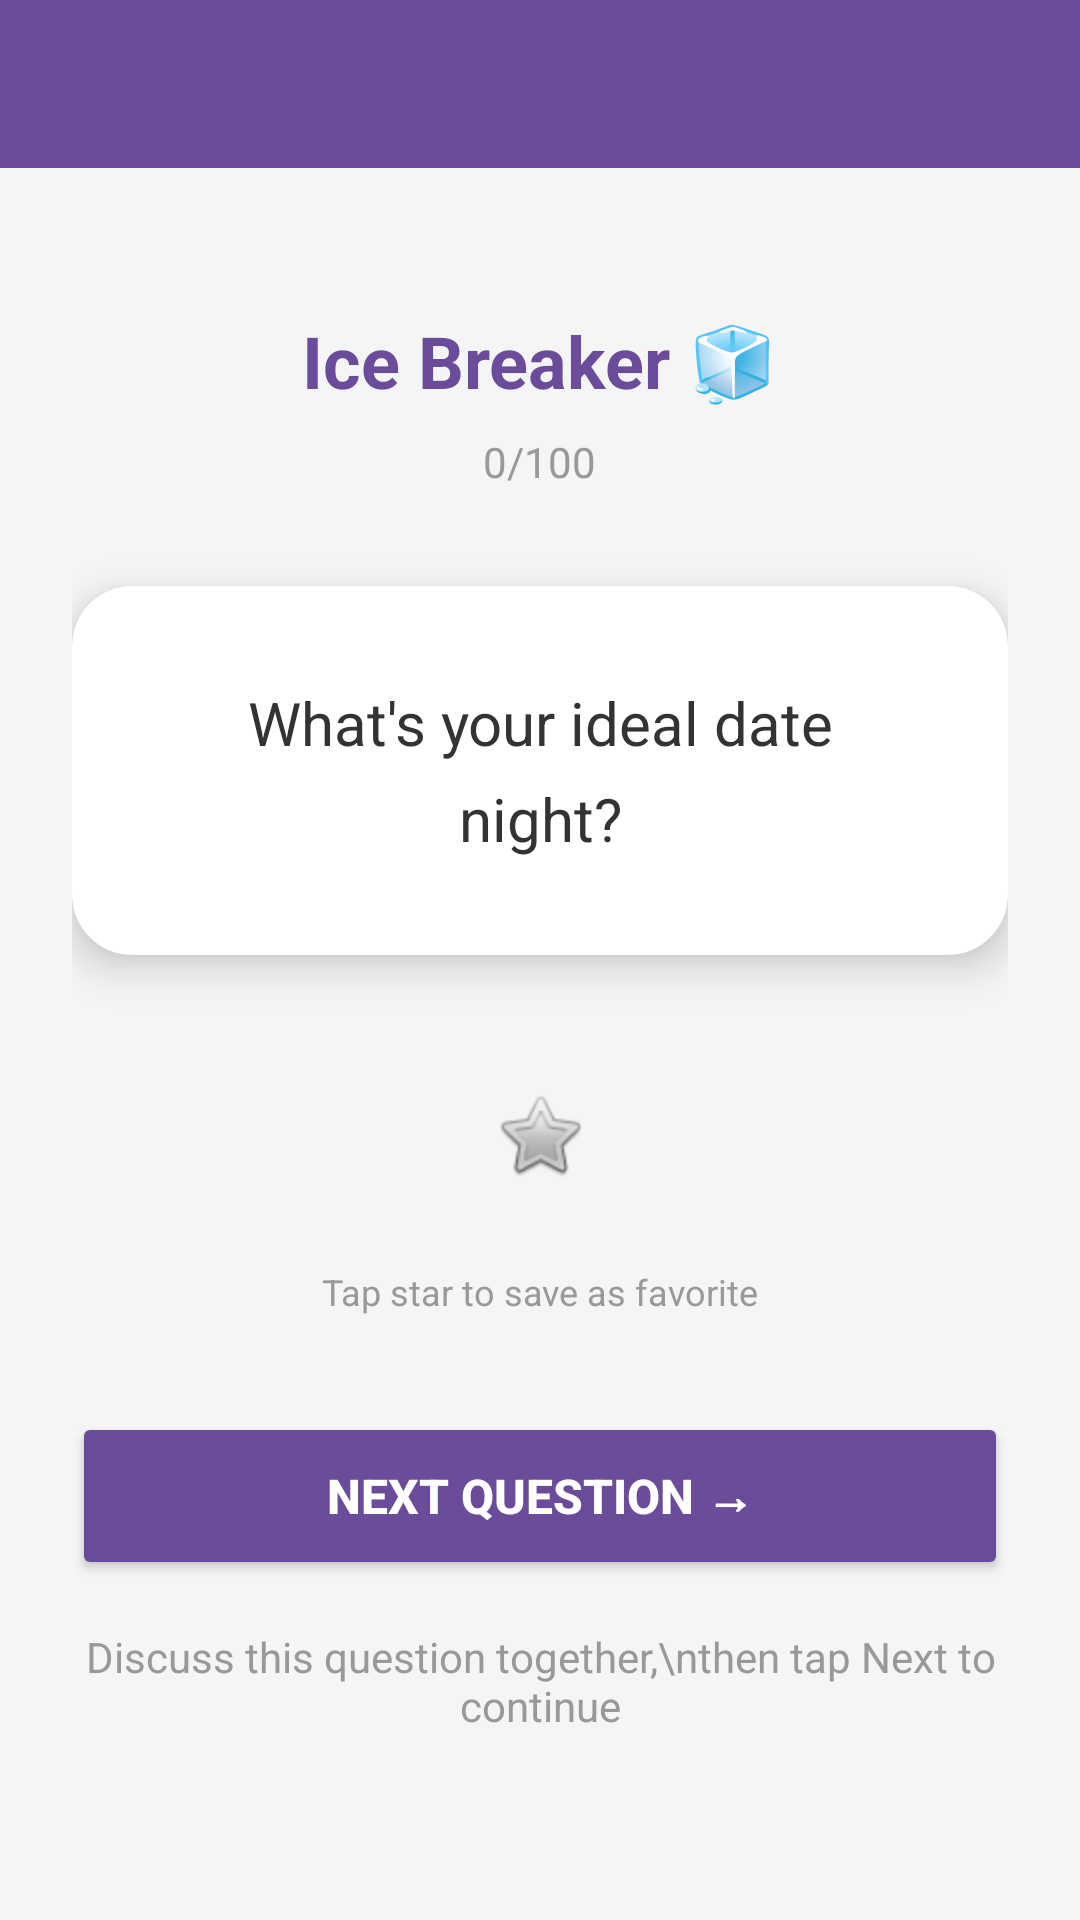

Locate icon controls on the screen. Image size 1080*1920, boxes as box(x1, y1, x2, y2).
Add to favorites: box(501, 1097, 581, 1175)
